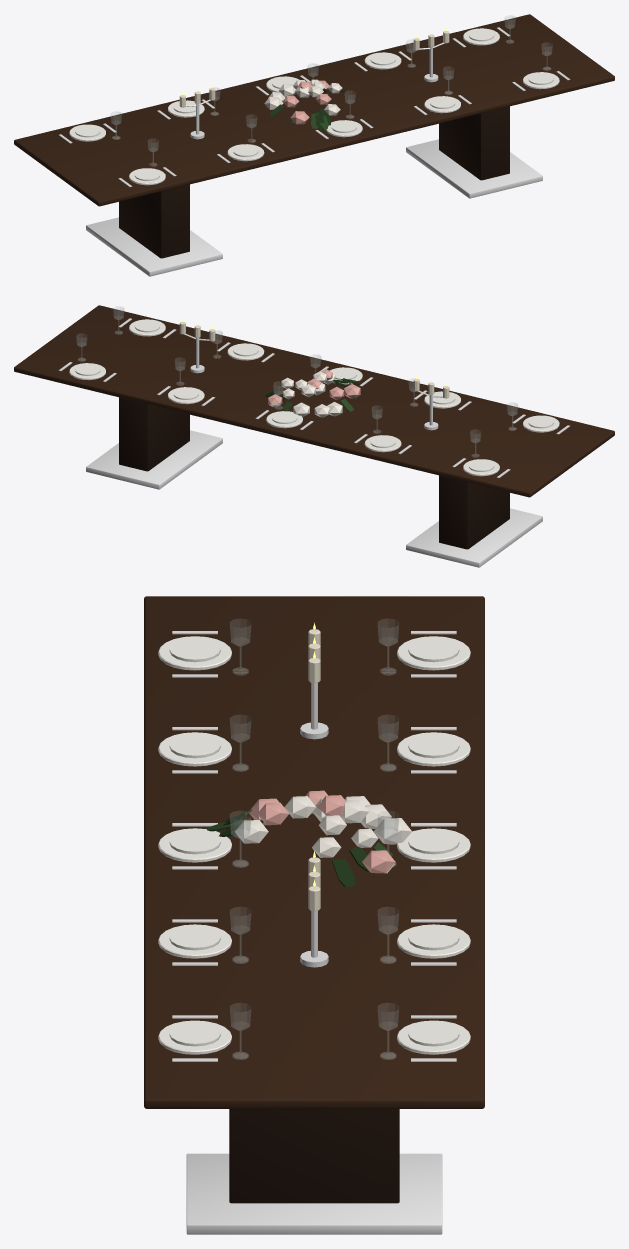
The model's file is marlin_dining_table.glb.
3 views of the same model, one above another, from view 1: azimuth 30°, elevation 25°; view 2: azimuth 150°, elevation 25°; view 3: azimuth 270°, elevation 25° (orthographic). The views are drawn at different scales.
Visible parts, largest first — view 1: marlin_dining_table; view 2: marlin_dining_table; view 3: marlin_dining_table.
Part boxes in pixels (box(x1,y1,x2,y2)): marlin_dining_table: box(14, 14, 614, 276); marlin_dining_table: box(14, 305, 614, 567); marlin_dining_table: box(144, 596, 484, 1234).
Size of the model in its own units: 4.2 by 1.13 by 1.2.
